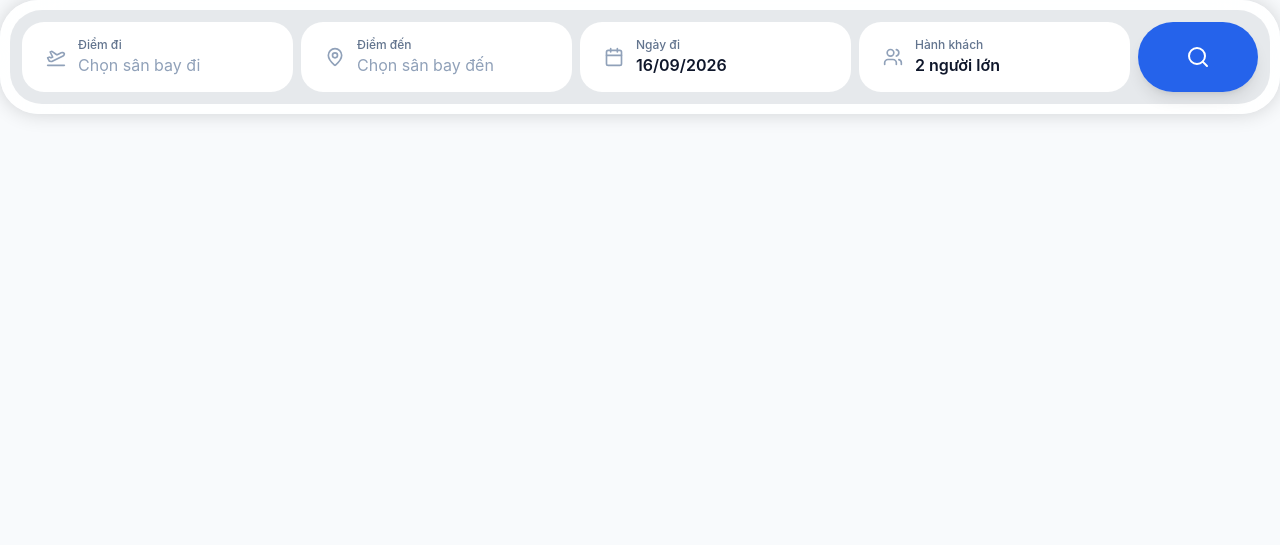
LandingSearchSheet › flights: airports › arrow keys and Enter pick an airport, and the destination does not offer the chosen origin
Focus the dropdown labelled "Điểm đi" at {"x": 174, "y": 65}, box top-left (78, 53), bottom-right (269, 77)
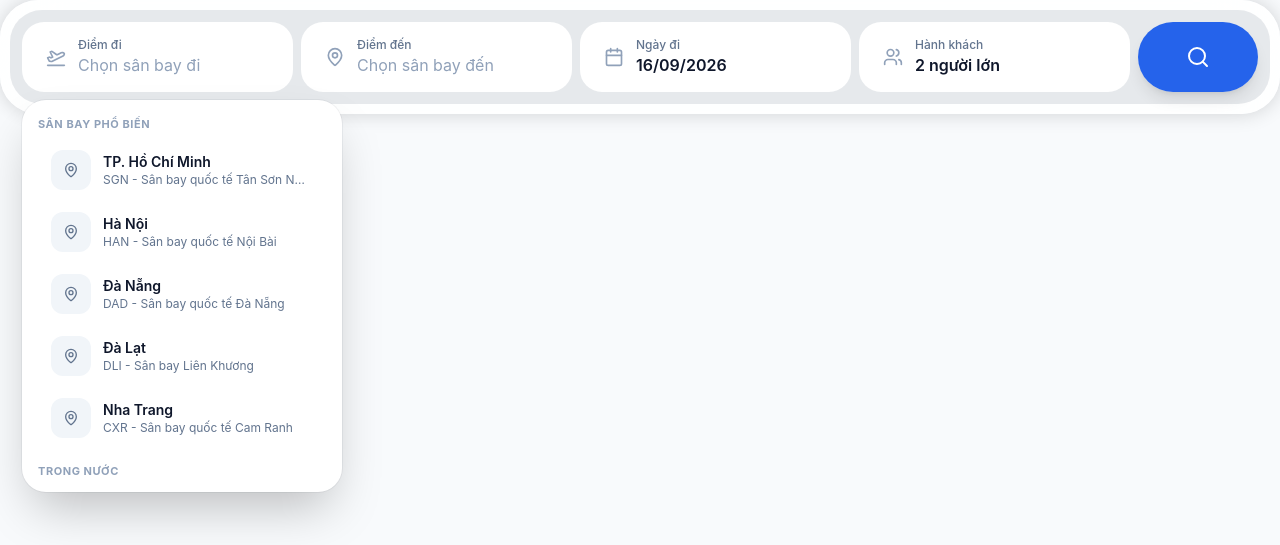
Expected: the option "TP. Hồ Chí Minh SGN - Sân bay quốc tế Tân Sơn Nhất" is shown, top-left (38, 140), bottom-right (322, 198)
Press ArrowDown in the dropdown labelled "Điểm đi", box top-left (78, 53), bottom-right (269, 77)
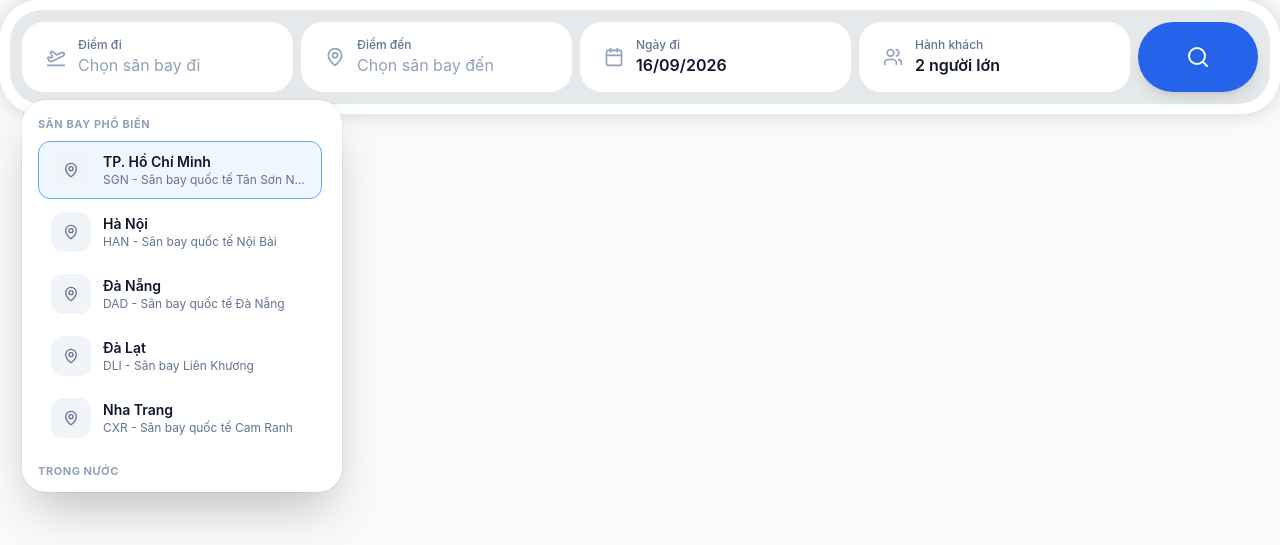
Press ArrowDown in the dropdown labelled "Điểm đi", box top-left (78, 53), bottom-right (269, 77)
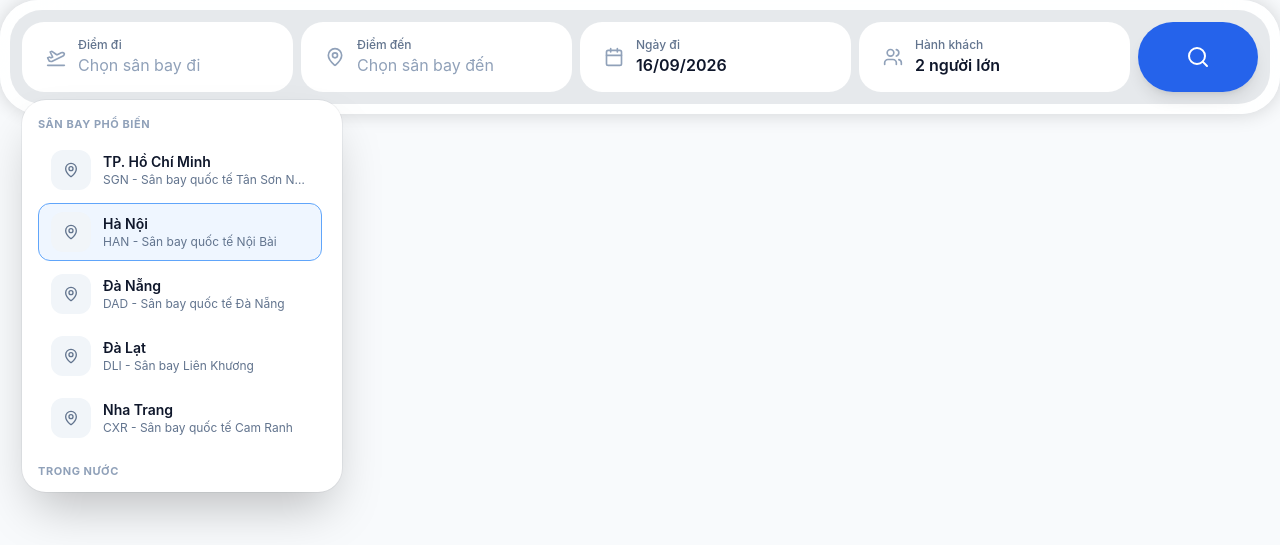
Press Enter in the dropdown labelled "Điểm đi", box top-left (78, 53), bottom-right (269, 77)
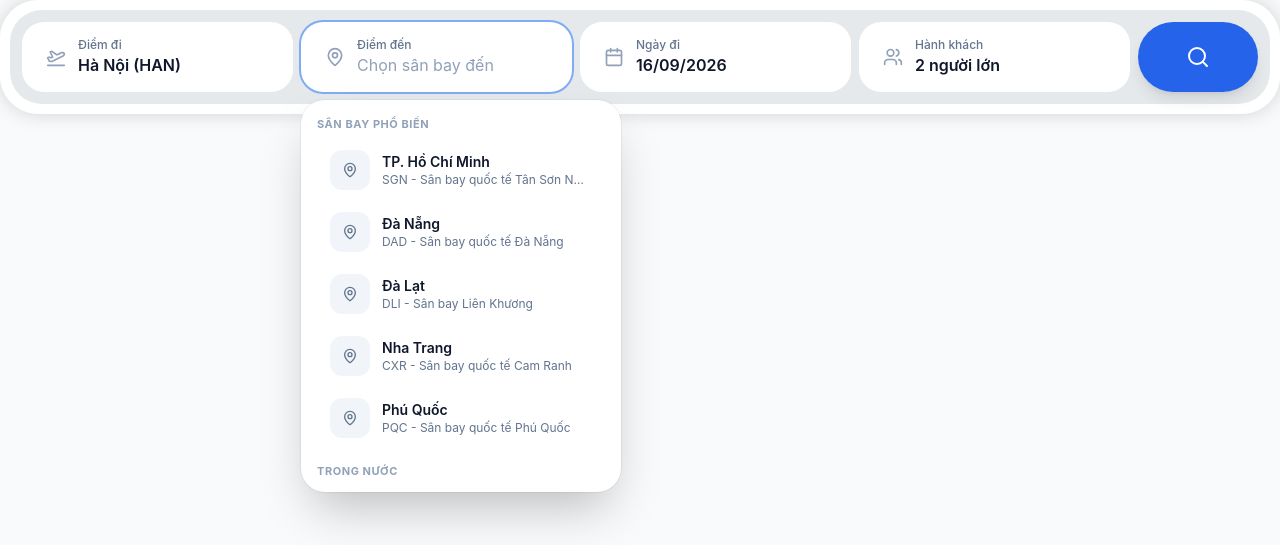
Expected: the dropdown labelled "Điểm đi" holds "Hà Nội (HAN)", top-left (78, 53), bottom-right (269, 77)
